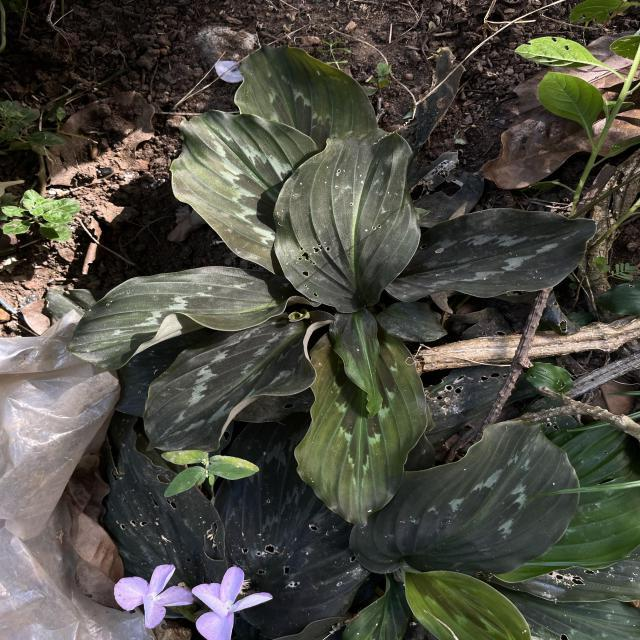Kaempferia galanga linn: (346, 418, 582, 578), (271, 125, 423, 315), (141, 308, 338, 454), (292, 324, 429, 531), (62, 264, 322, 372), (167, 107, 322, 280), (384, 205, 599, 306), (326, 308, 385, 422)
